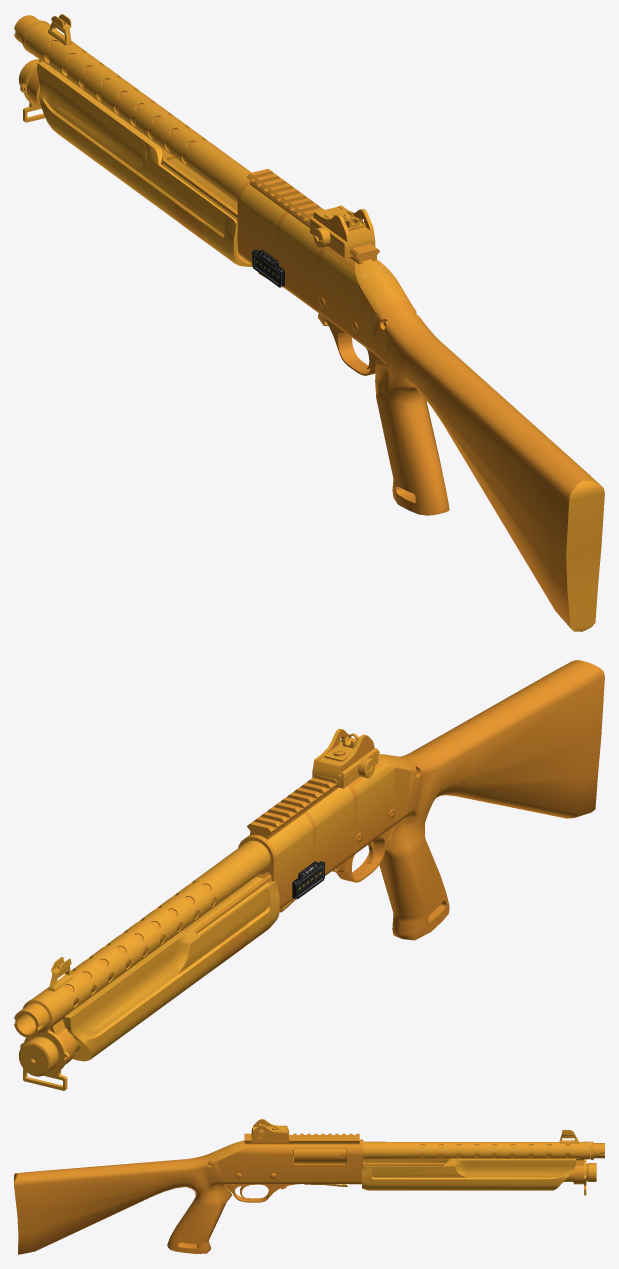
File: fabm.glb
3 renders of one model, top to bottom at view 1: azimuth 30°, elevation 25°; view 2: azimuth 150°, elevation 25°; view 3: azimuth 270°, elevation 25°, orthographic. The views are drawn at different scales.
Visible parts, largest first — view 1: LOD_Template, Handle1, Sticker3, Sticker4, Sticker2, Sticker1; view 2: LOD_Template, Handle1, Sticker3, Sticker4, Sticker2, Sticker1, StatTrack.001; view 3: LOD_Template, Handle1, Gunlock1.
Part boxes in pixels (<box>): LOD_Template: <box>14,14,604,631</box>; Handle1: <box>37,61,252,266</box>; Sticker3: <box>280,213,320,310</box>; Sticker4: <box>321,249,369,342</box>; Sticker2: <box>240,184,285,261</box>; Sticker1: <box>174,180,208,244</box>; LOD_Template: <box>14,660,604,1090</box>; Handle1: <box>62,874,279,1061</box>; Sticker3: <box>307,786,353,874</box>; Sticker4: <box>353,758,394,852</box>; Sticker2: <box>267,814,312,906</box>; Sticker1: <box>215,904,249,968</box>; StatTrack.001: <box>292,861,324,899</box>; LOD_Template: <box>14,1119,604,1254</box>; Handle1: <box>293,1157,575,1190</box>; Gunlock1: <box>294,1148,346,1163</box>.
Size of the model in its own units: 0.0448 by 0.2143 by 0.8721.
Materials: 6 (6 with a texture image).
